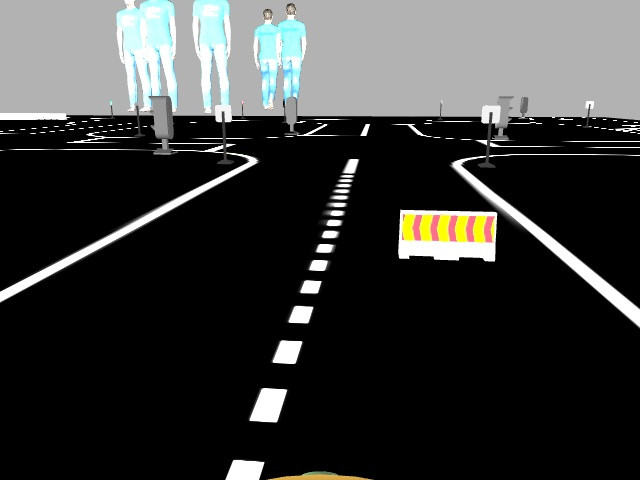ClosedRoadStand: (398, 212, 495, 258)
